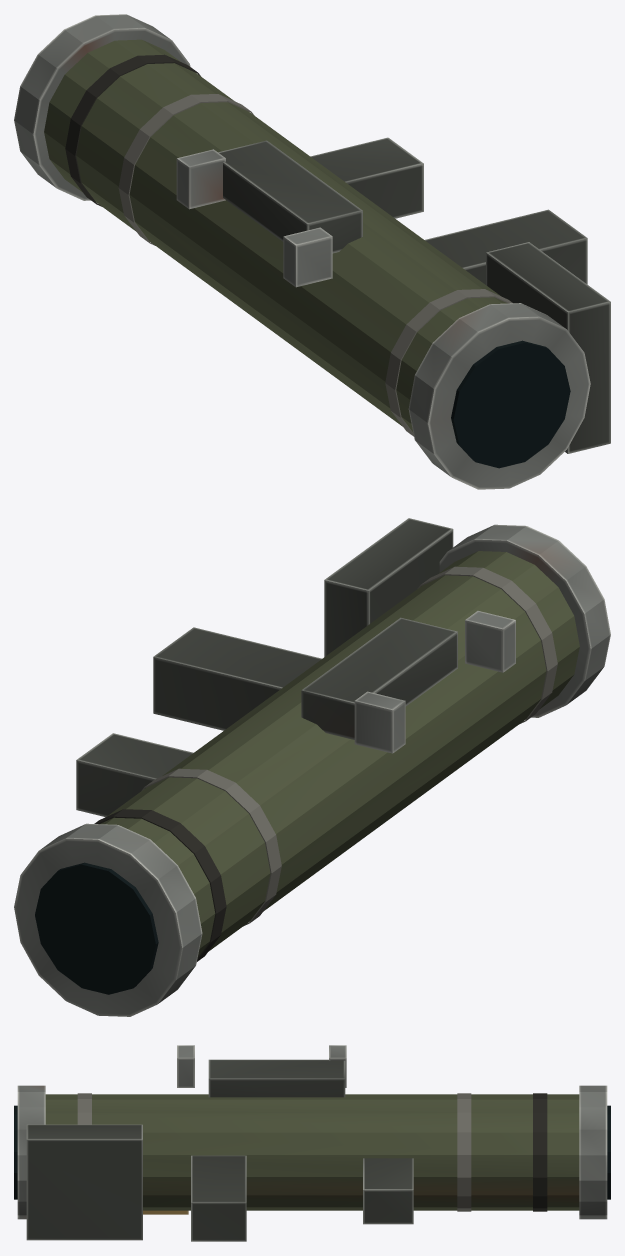
3 renders of one model, top to bottom at view 1: azimuth 30°, elevation 25°; view 2: azimuth 150°, elevation 25°; view 3: azimuth 270°, elevation 25°, orthographic. The views are drawn at different scales.
Parts seen in each view (by area): view 1: groundWeapon-rocket, frissonWeaponDress; view 2: groundWeapon-rocket, frissonWeaponDress; view 3: groundWeapon-rocket, frissonWeaponDress.
Part boxes in pixels (x1,y1,x2,y2): groundWeapon-rocket: [14, 14, 610, 489]; frissonWeaponDress: [65, 54, 512, 436]; groundWeapon-rocket: [14, 518, 610, 1016]; frissonWeaponDress: [94, 566, 557, 961]; groundWeapon-rocket: [14, 1045, 610, 1241]; frissonWeaponDress: [77, 1093, 547, 1211].
Bounding box in the file's own units: 0.49 × 0.2885 × 1.18.
